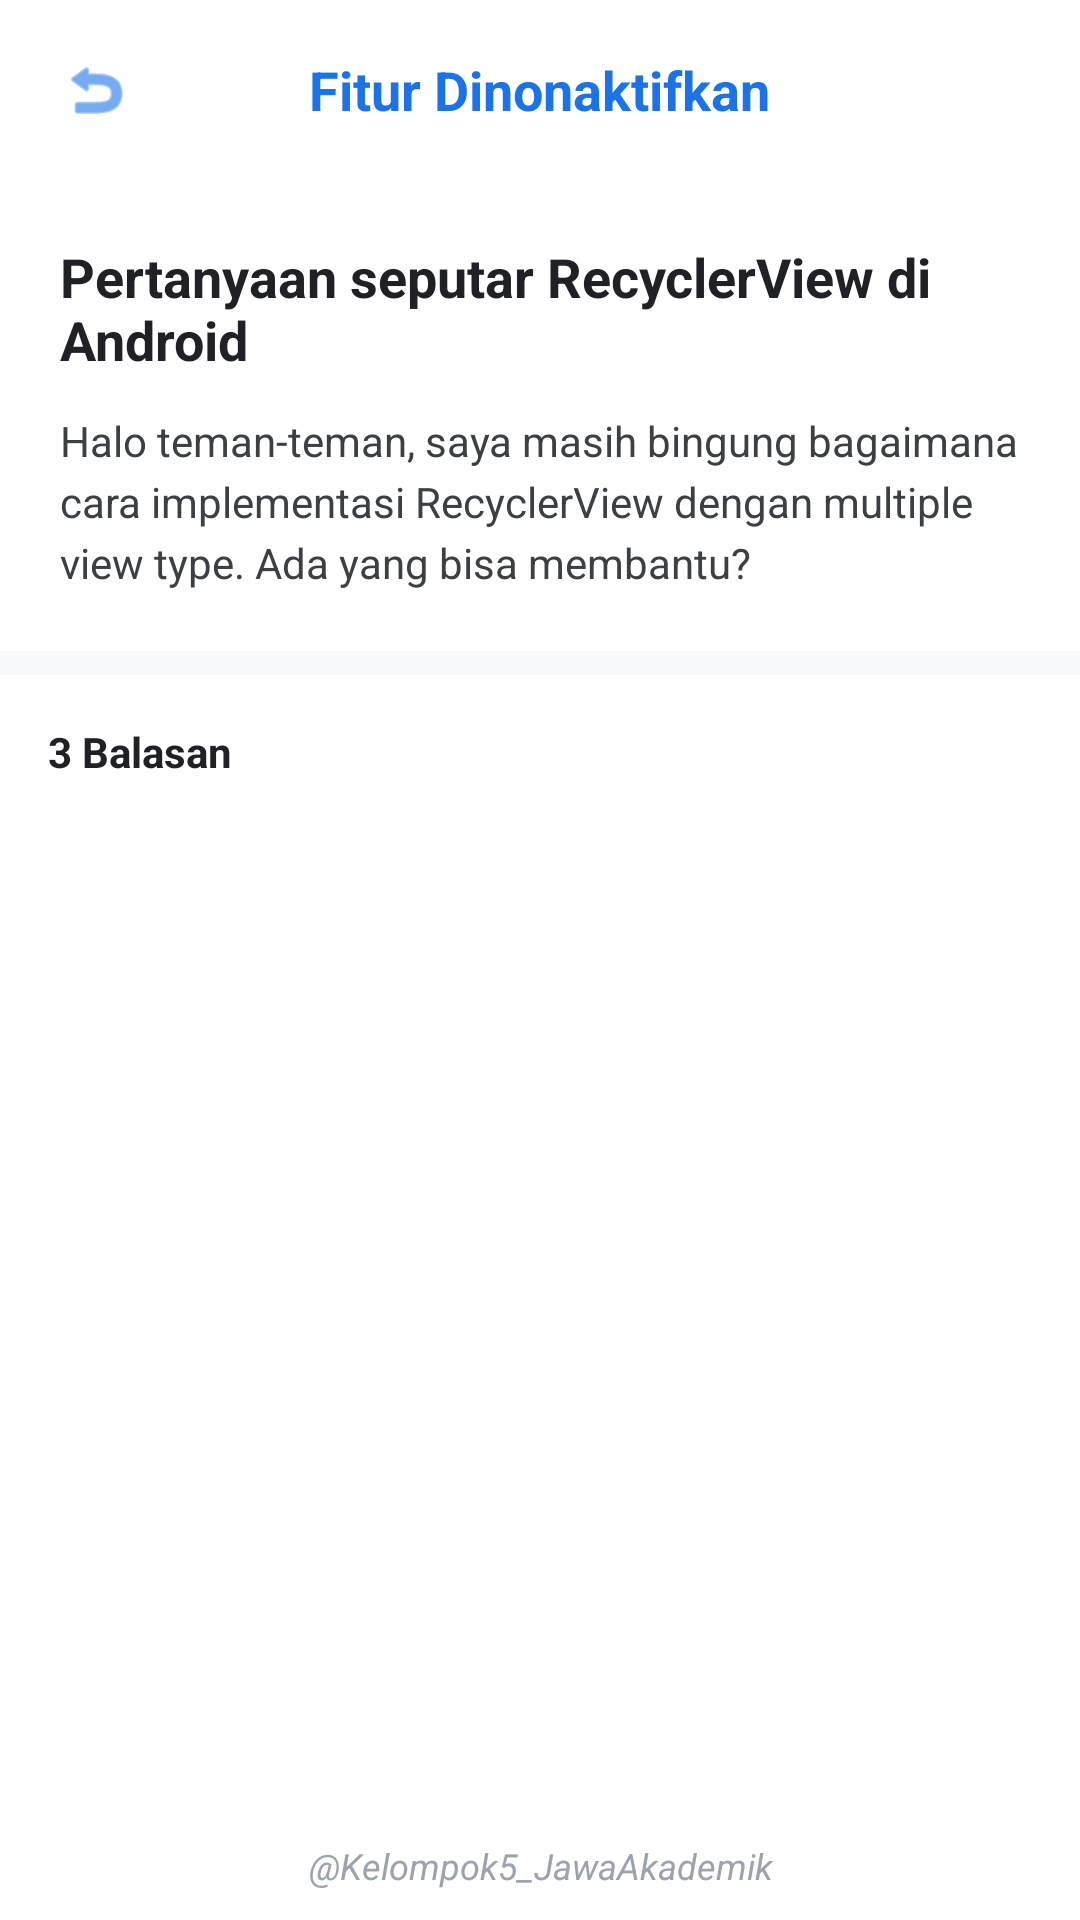

Where to tap for icons on this 1080x1920 app screen, as point (x, y):
revert: point (97, 90)
